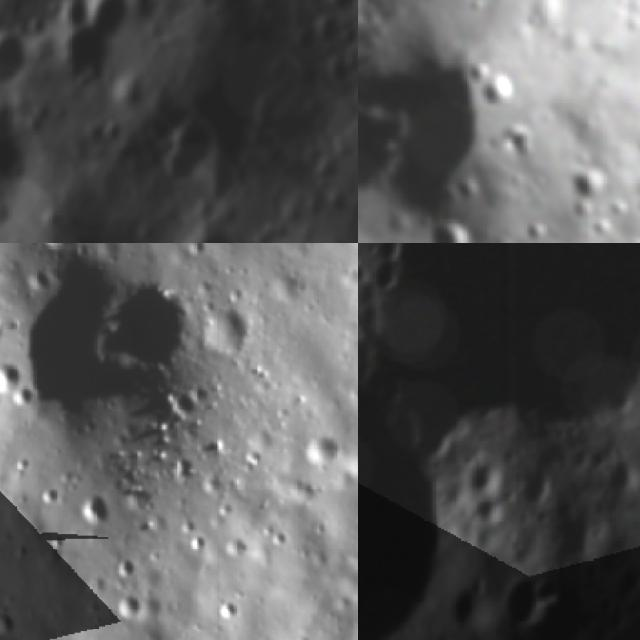crater: (358, 367, 559, 640), (369, 243, 640, 404), (87, 269, 199, 373), (54, 0, 135, 88), (155, 102, 230, 196), (358, 97, 420, 206), (0, 104, 29, 243), (444, 581, 498, 640), (496, 572, 550, 630), (0, 24, 35, 91), (591, 451, 637, 500), (464, 449, 504, 502), (424, 217, 489, 243), (517, 472, 555, 516), (570, 165, 617, 199), (469, 491, 507, 532), (480, 72, 520, 109), (300, 433, 340, 468), (78, 490, 111, 523), (108, 594, 146, 622), (0, 358, 22, 395), (524, 219, 552, 243), (178, 528, 206, 551), (108, 556, 136, 578), (222, 535, 248, 558), (372, 243, 403, 262), (210, 603, 240, 621), (0, 604, 15, 639), (49, 530, 69, 556), (38, 486, 62, 506), (209, 633, 243, 640), (635, 130, 640, 159)
